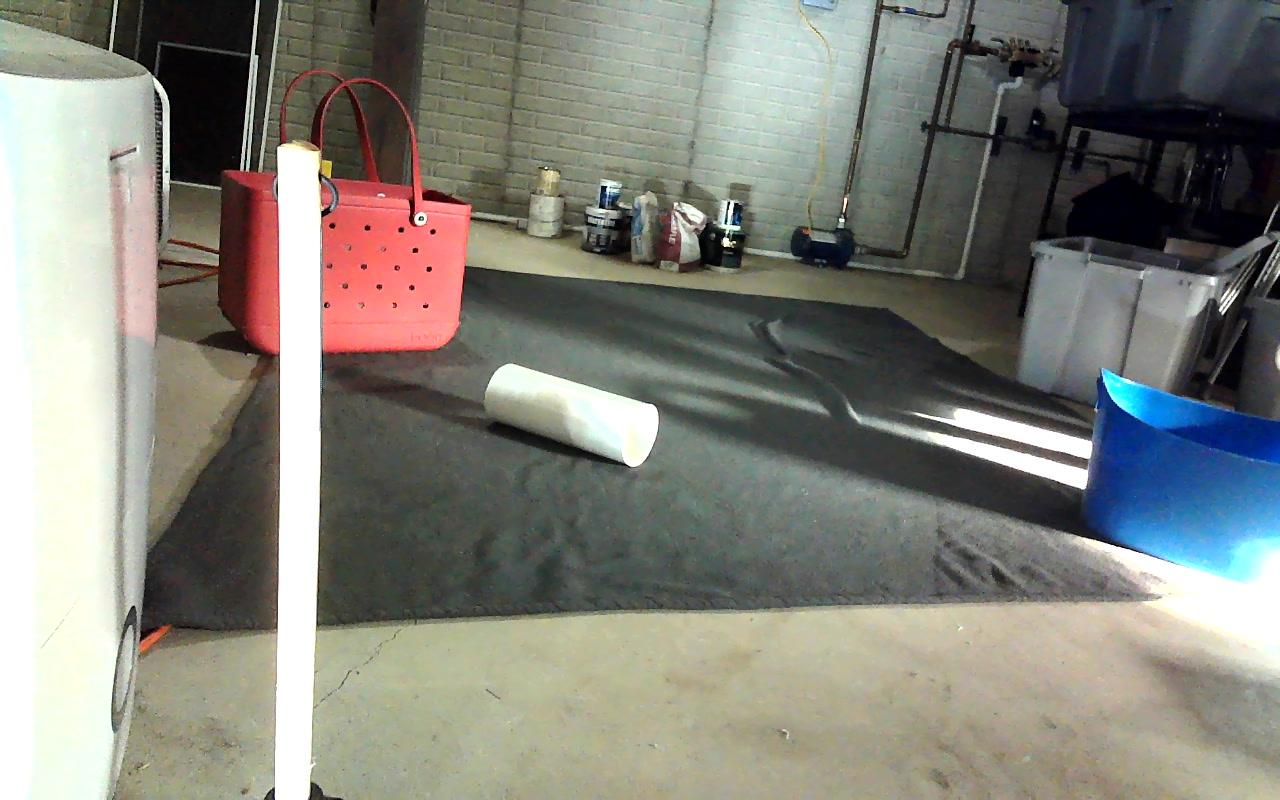coral: (483, 364, 657, 465)
